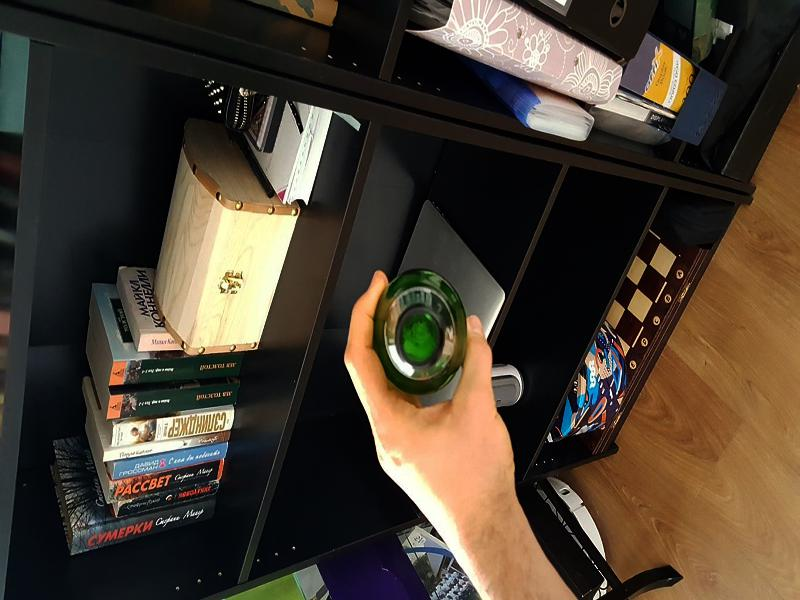Beer: (373, 276, 468, 391)
